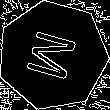M_E: (22, 27, 84, 85)
